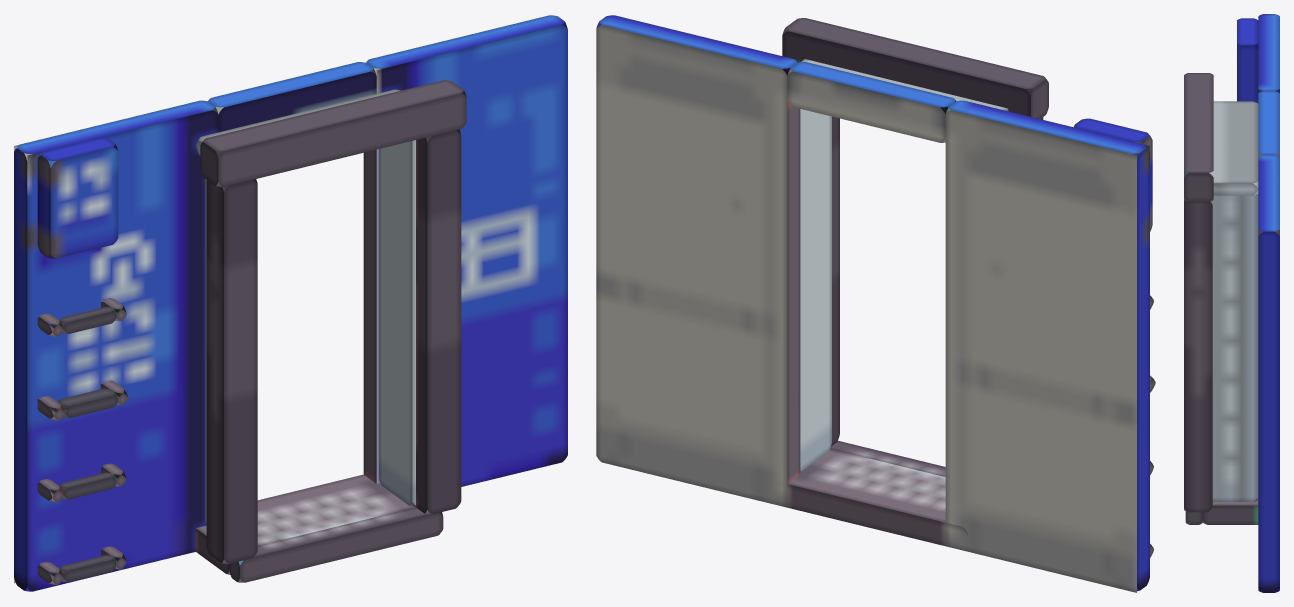
The model's file is end_face_original_25k_3.obj.
3 renders of one model, left to right at view 1: azimuth 30°, elevation 25°; view 2: azimuth 150°, elevation 25°; view 3: azimuth 270°, elevation 25°, orthographic. The views are drawn at different scales.
Visible parts, largest first — view 1: cube; view 2: cube; view 3: cube.
Part boxes in pixels (x1,y1,x2,y2): cube: (14,15,567,591); cube: (596,15,1155,592); cube: (1184,14,1279,592).
Size of the model in its own units: 2.99 by 2.31 by 0.5562.
